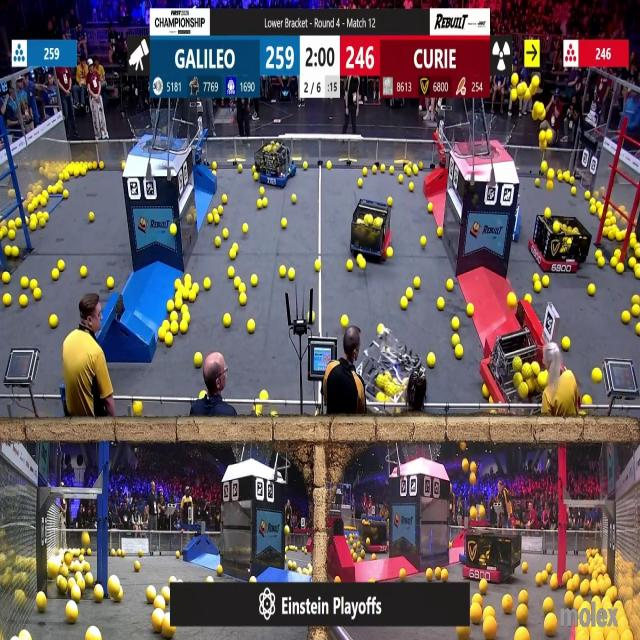ball_airborne: (544, 130, 552, 144), (82, 532, 90, 546), (519, 85, 528, 97), (512, 73, 520, 86), (534, 103, 543, 114), (532, 76, 540, 88), (538, 131, 546, 143), (469, 508, 476, 520), (512, 90, 519, 102), (541, 160, 548, 171), (462, 459, 468, 471), (480, 505, 486, 517), (546, 170, 553, 180), (469, 472, 475, 483), (546, 180, 552, 190), (544, 208, 550, 218), (469, 462, 475, 472), (554, 222, 560, 232), (460, 444, 466, 452)
ball_ground: (544, 616, 556, 638), (469, 605, 481, 626), (163, 618, 174, 639), (67, 603, 78, 623), (152, 613, 162, 634), (501, 596, 512, 614), (518, 605, 528, 624), (36, 594, 46, 612), (94, 586, 104, 603), (146, 587, 156, 603), (579, 579, 589, 595), (88, 629, 102, 640), (542, 598, 552, 613), (516, 628, 528, 640), (593, 367, 602, 382), (59, 578, 68, 593), (193, 352, 201, 368), (134, 403, 143, 417), (72, 588, 81, 602), (49, 314, 57, 328), (564, 594, 572, 608), (86, 573, 95, 585), (428, 352, 435, 367), (562, 338, 570, 351), (454, 346, 462, 359), (164, 588, 172, 601), (520, 591, 528, 604), (154, 598, 164, 608), (507, 292, 514, 306), (481, 581, 488, 595), (2, 273, 10, 285), (3, 294, 11, 306), (33, 288, 41, 300), (452, 318, 460, 330), (622, 312, 630, 324), (223, 314, 230, 327), (426, 568, 434, 579), (452, 336, 460, 347), (171, 322, 179, 333), (466, 305, 473, 317), (107, 278, 114, 290), (251, 275, 258, 287), (248, 320, 255, 332), (342, 315, 349, 327), (19, 294, 26, 306), (166, 335, 173, 347), (400, 298, 407, 310), (597, 256, 604, 268), (358, 259, 365, 271), (442, 568, 449, 580), (535, 573, 542, 585), (551, 576, 558, 588), (170, 312, 178, 322), (30, 220, 38, 230), (21, 632, 31, 640), (482, 385, 488, 398), (171, 223, 177, 236), (347, 261, 354, 272), (240, 293, 247, 304), (447, 280, 454, 291), (589, 284, 596, 295), (51, 270, 58, 281), (59, 262, 66, 273), (227, 268, 234, 279), (414, 278, 421, 289), (541, 276, 548, 287), (180, 322, 187, 333), (632, 306, 639, 317), (4, 246, 11, 257), (629, 257, 636, 268), (205, 278, 211, 290), (80, 267, 86, 279), (288, 269, 294, 281), (439, 300, 445, 312), (280, 267, 286, 279), (212, 214, 220, 223), (164, 320, 172, 329), (315, 262, 322, 272), (420, 238, 427, 248), (188, 291, 195, 301), (175, 280, 182, 290), (262, 390, 269, 400), (534, 282, 541, 292), (584, 394, 591, 404), (8, 231, 15, 241), (175, 300, 182, 310), (11, 246, 18, 256), (116, 592, 123, 602), (399, 568, 405, 579), (23, 277, 29, 288), (408, 288, 414, 299), (231, 249, 237, 260), (522, 562, 528, 573), (182, 313, 189, 322), (40, 198, 47, 207), (630, 234, 637, 243), (387, 248, 393, 258), (217, 565, 223, 575), (214, 238, 220, 248), (281, 218, 287, 228), (619, 264, 625, 274), (184, 274, 190, 284), (90, 212, 96, 222), (610, 256, 616, 266), (222, 230, 228, 240), (168, 302, 174, 312), (134, 562, 140, 572), (436, 228, 442, 238), (221, 193, 227, 203), (235, 278, 241, 288), (378, 324, 384, 334), (14, 218, 20, 228), (254, 407, 260, 417), (160, 327, 166, 337), (558, 172, 564, 182), (545, 562, 551, 572), (434, 568, 440, 578), (250, 575, 257, 583), (181, 304, 188, 312), (253, 174, 260, 182), (414, 168, 421, 176), (243, 223, 249, 232), (632, 294, 638, 303), (357, 181, 363, 190), (31, 279, 37, 288), (39, 218, 45, 227), (191, 282, 197, 291), (602, 226, 608, 235), (635, 269, 640, 279), (608, 231, 613, 241), (0, 230, 5, 240), (336, 575, 342, 583), (207, 575, 213, 583), (596, 250, 602, 258), (526, 294, 532, 302), (263, 200, 269, 208), (616, 249, 622, 257), (538, 181, 544, 189), (240, 284, 246, 292), (74, 169, 80, 177), (257, 200, 262, 209), (64, 189, 69, 198), (428, 204, 433, 213), (100, 162, 105, 171), (385, 199, 390, 208), (571, 186, 576, 195), (586, 190, 591, 199), (591, 206, 596, 215), (569, 174, 574, 183), (636, 323, 640, 334), (238, 166, 244, 173), (292, 192, 296, 202), (259, 186, 264, 194), (362, 168, 367, 176), (371, 167, 376, 175), (212, 163, 217, 171), (398, 175, 403, 183), (170, 575, 175, 583), (536, 274, 541, 282), (200, 391, 205, 399), (326, 163, 331, 171), (381, 166, 386, 174), (234, 243, 239, 251), (635, 248, 640, 256), (80, 168, 85, 176), (252, 166, 257, 174), (352, 554, 357, 562), (408, 168, 413, 176), (209, 214, 213, 223), (218, 206, 222, 215), (369, 576, 374, 583), (304, 164, 309, 171), (387, 166, 392, 173), (304, 568, 309, 575), (419, 164, 424, 171), (410, 182, 414, 190), (371, 554, 375, 562), (176, 552, 180, 560), (535, 178, 539, 186), (48, 185, 52, 193), (120, 163, 124, 171), (272, 412, 277, 418), (139, 552, 143, 558), (212, 172, 217, 176)
goal: (460, 119, 516, 158), (129, 116, 186, 152)
robot_blue: (255, 139, 296, 187)
robot_red: (488, 330, 548, 415), (531, 214, 590, 273), (461, 530, 515, 584), (349, 202, 392, 262), (358, 518, 391, 554)
